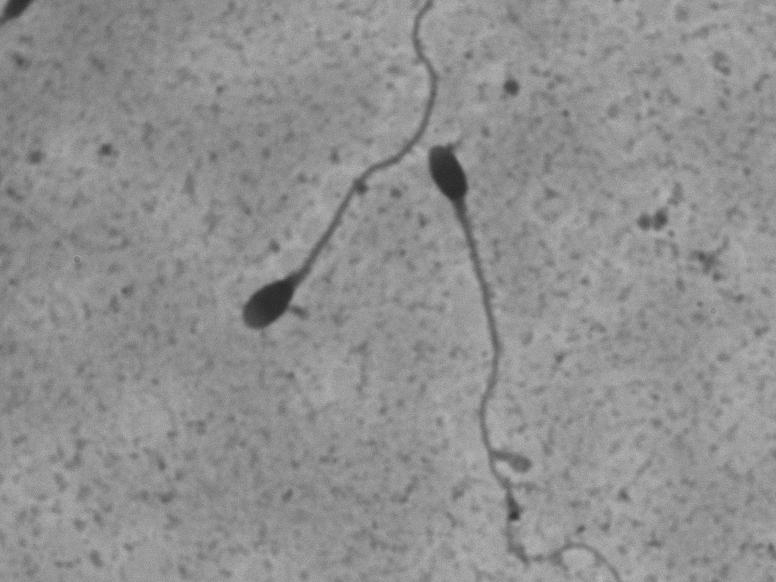Normal: (420, 128, 624, 578), (233, 3, 452, 349)
